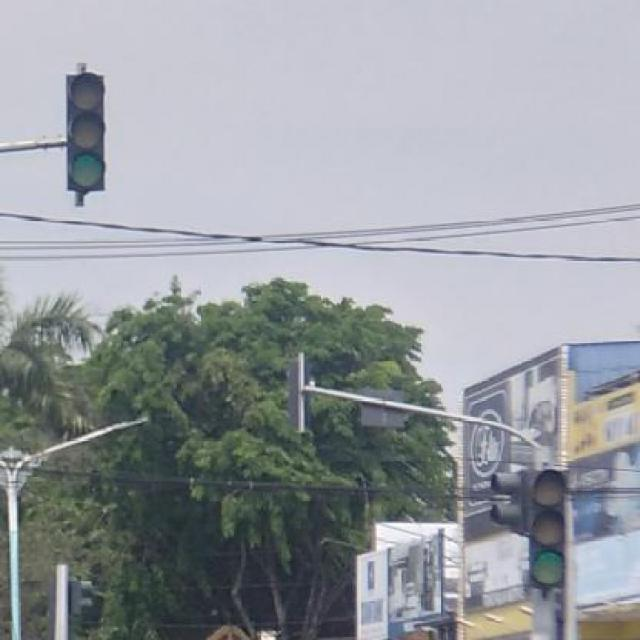traffic light: (528, 472, 568, 591), (68, 74, 107, 195)
